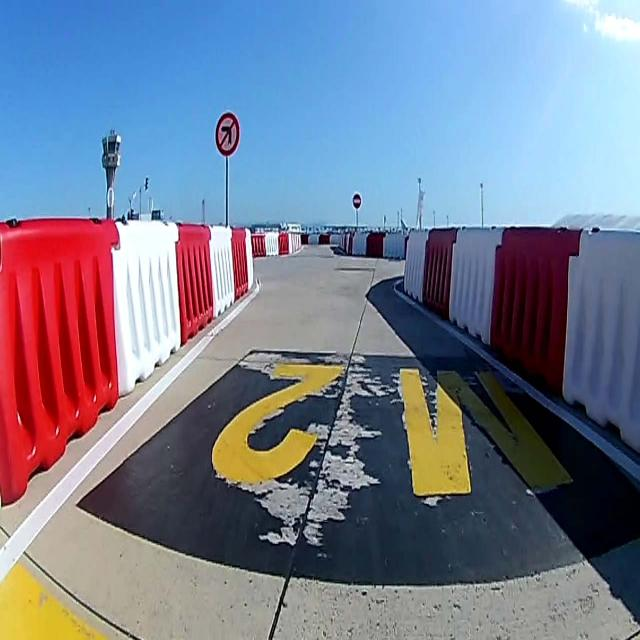girisyok: (352, 193, 361, 211)
soladonulmez: (214, 111, 240, 157)
